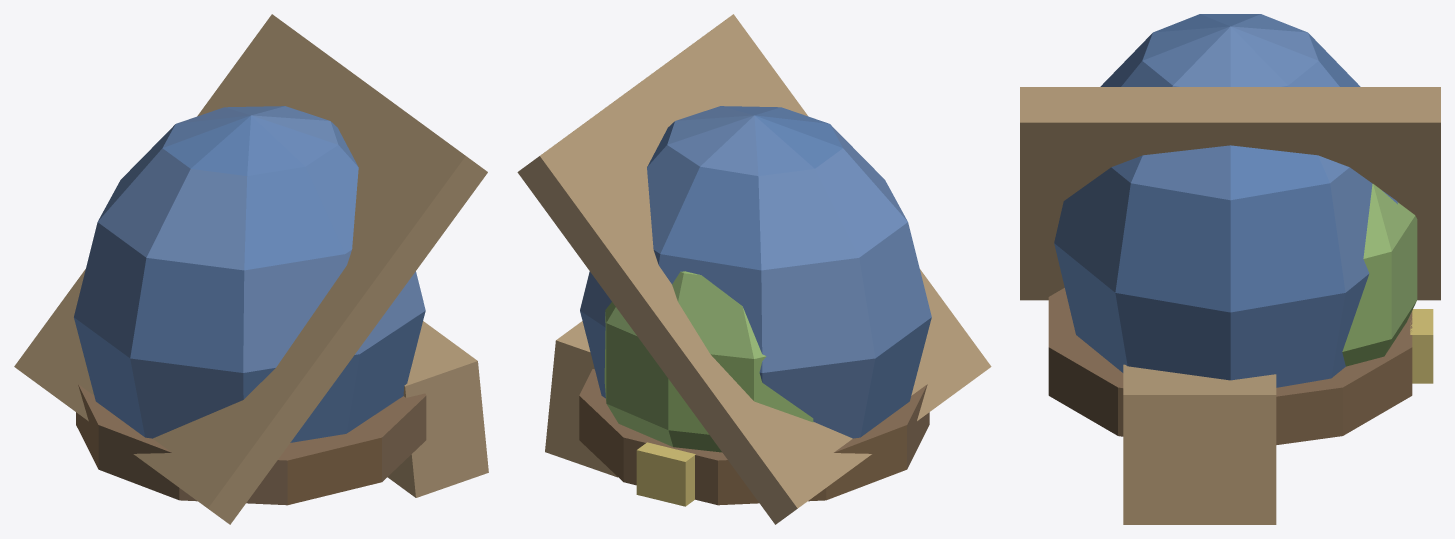
File: torso.glb
3 renders of one model, left to right at view 1: azimuth 30°, elevation 25°; view 2: azimuth 150°, elevation 25°; view 3: azimuth 270°, elevation 25°, orthographic. The views are drawn at different scales.
Visible parts, largest first — view 1: torso2; view 2: torso2; view 3: torso2.
Boxes of the visible parts, x1=… form: torso2: x1=14, y1=14, x2=488, y2=524; torso2: x1=517, y1=14, x2=991, y2=524; torso2: x1=1020, y1=14, x2=1440, y2=524.
Size of the model in its own units: 0.5587 by 0.5894 by 0.55.
